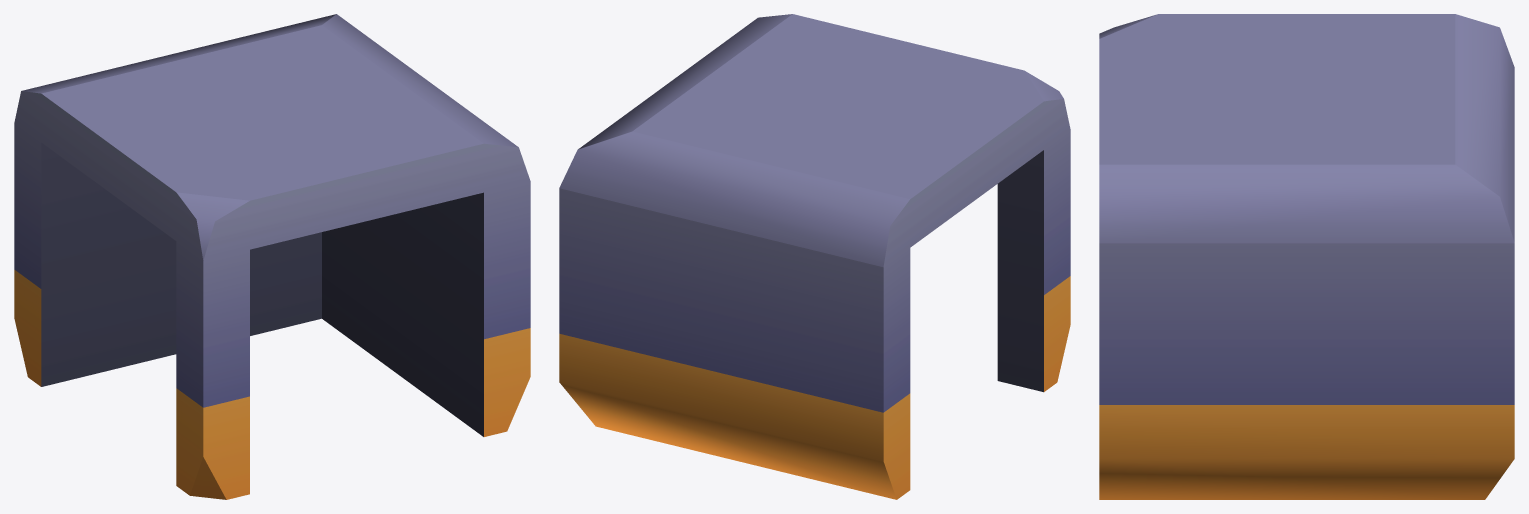
The model's file is kenney-conveyor-cover-stripe-corner.glb.
3 views of the same model, side by side, from view 1: azimuth 30°, elevation 25°; view 2: azimuth 150°, elevation 25°; view 3: azimuth 270°, elevation 25° (orthographic). The views are drawn at different scales.
Visible parts, largest first — view 1: cover-stripe-corner; view 2: cover-stripe-corner; view 3: cover-stripe-corner.
Part boxes in pixels (box(x1,y1,x2,y2)): cover-stripe-corner: box(14, 14, 530, 499); cover-stripe-corner: box(559, 14, 1070, 499); cover-stripe-corner: box(1099, 14, 1514, 499).
Size of the model in its own units: 1.4 by 1.2 by 1.4.
Materials: 1 (1 with a texture image).
